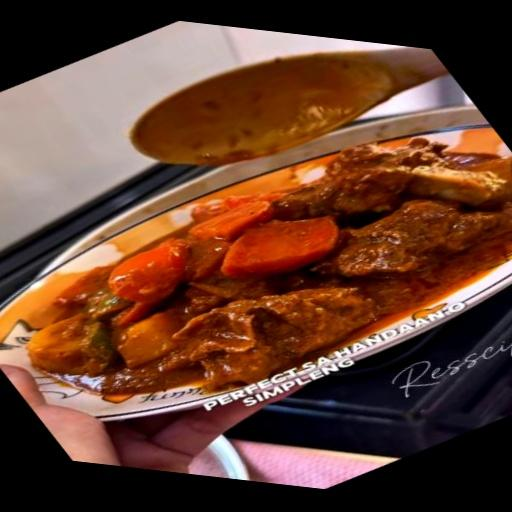pork caldereta: (40, 146, 511, 388)
